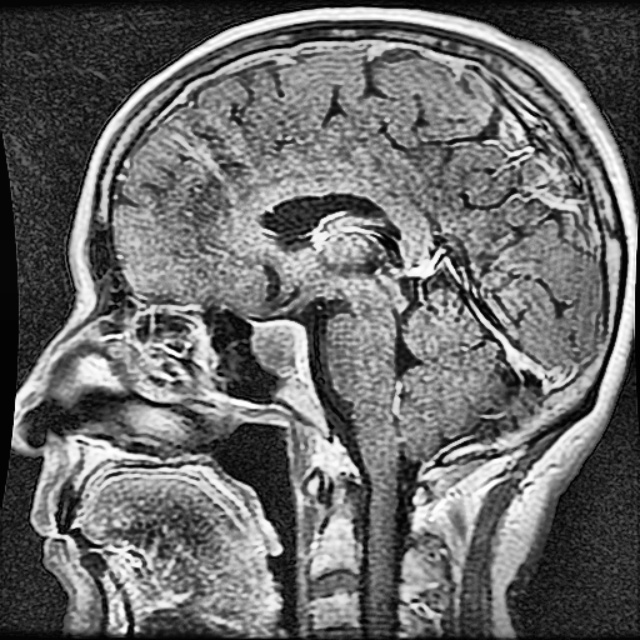Pituitary: (252, 319, 304, 378)
